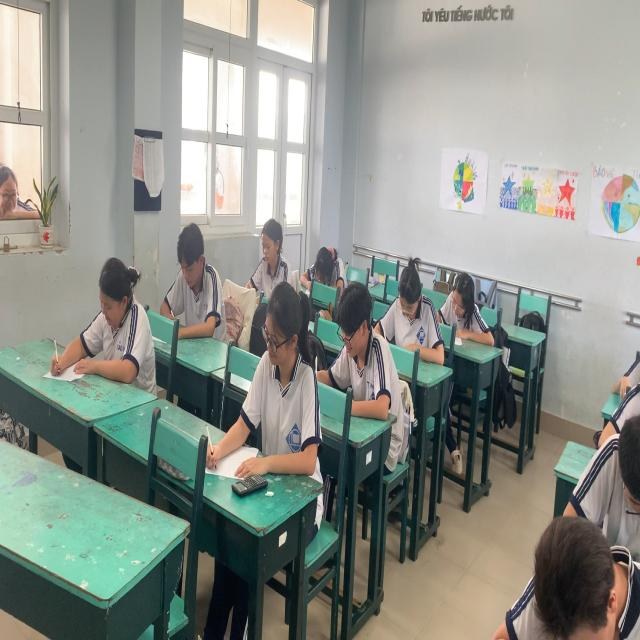not_cheating: (516, 500, 640, 640), (250, 281, 320, 481), (78, 233, 156, 392), (328, 268, 404, 431), (165, 214, 224, 352), (389, 238, 444, 362), (446, 249, 481, 349), (248, 214, 291, 286), (303, 222, 346, 292)
